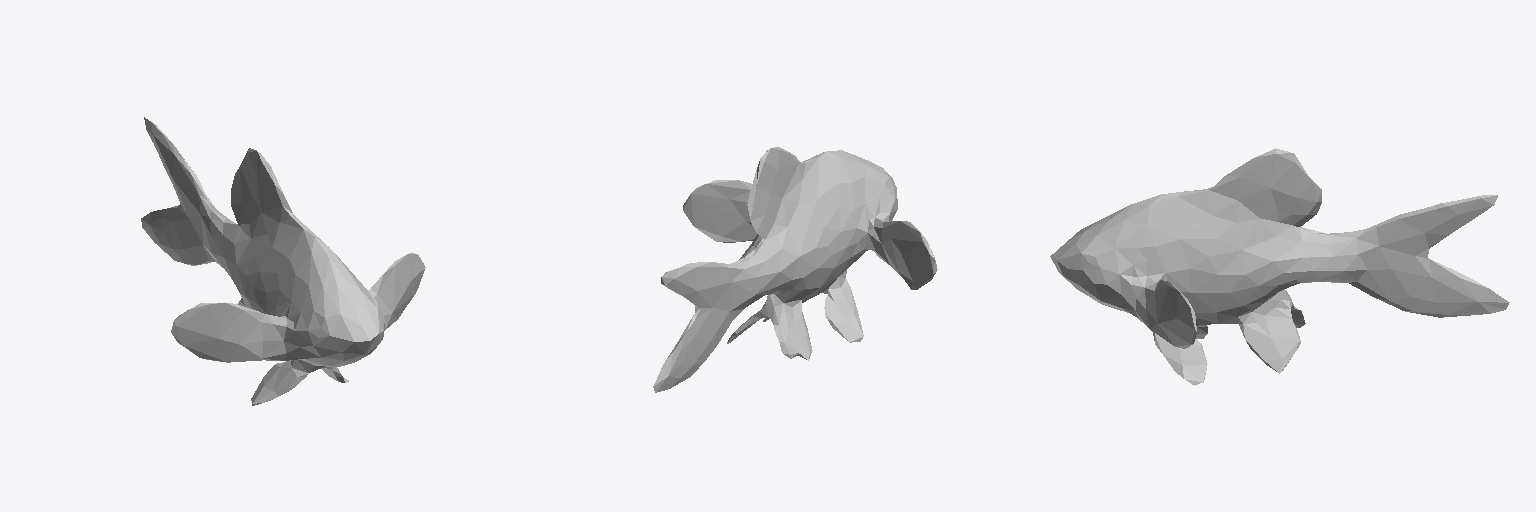
The model's file is goldfish.obj.
3 renders of one model, left to right at view 1: azimuth 30°, elevation 25°; view 2: azimuth 150°, elevation 25°; view 3: azimuth 270°, elevation 25°, orthographic.
Parts seen in each view (by area): view 1: Goldfish_Low_Poly; view 2: Goldfish_Low_Poly; view 3: Goldfish_Low_Poly.
Boxes of the visible parts, box(x1,y1,x2,y2) form: Goldfish_Low_Poly: box(141, 117, 425, 405); Goldfish_Low_Poly: box(653, 147, 937, 392); Goldfish_Low_Poly: box(1050, 148, 1509, 385).
Bounding box in the file's own units: 0.0729 × 0.0586 × 0.1139.